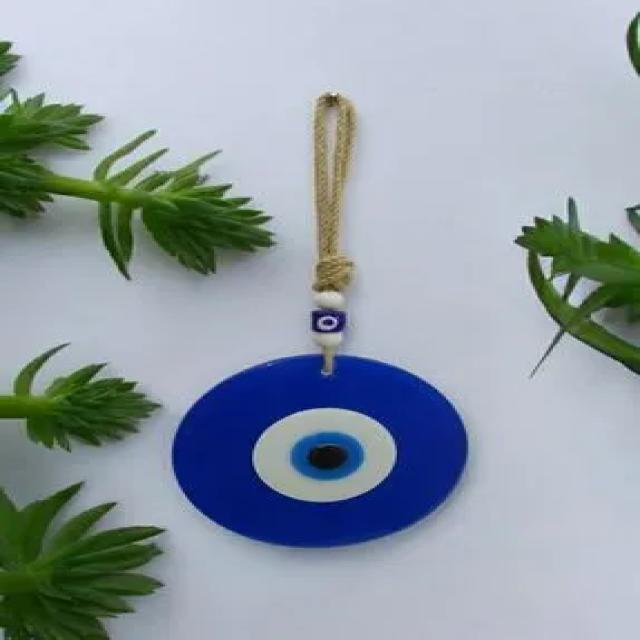Nazar-Boncugu: (169, 353, 470, 550)
